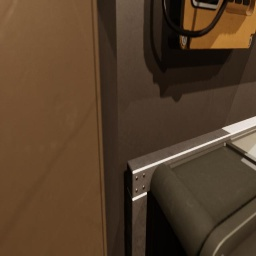EmergencyPhone ,: (161, 0, 256, 50)
